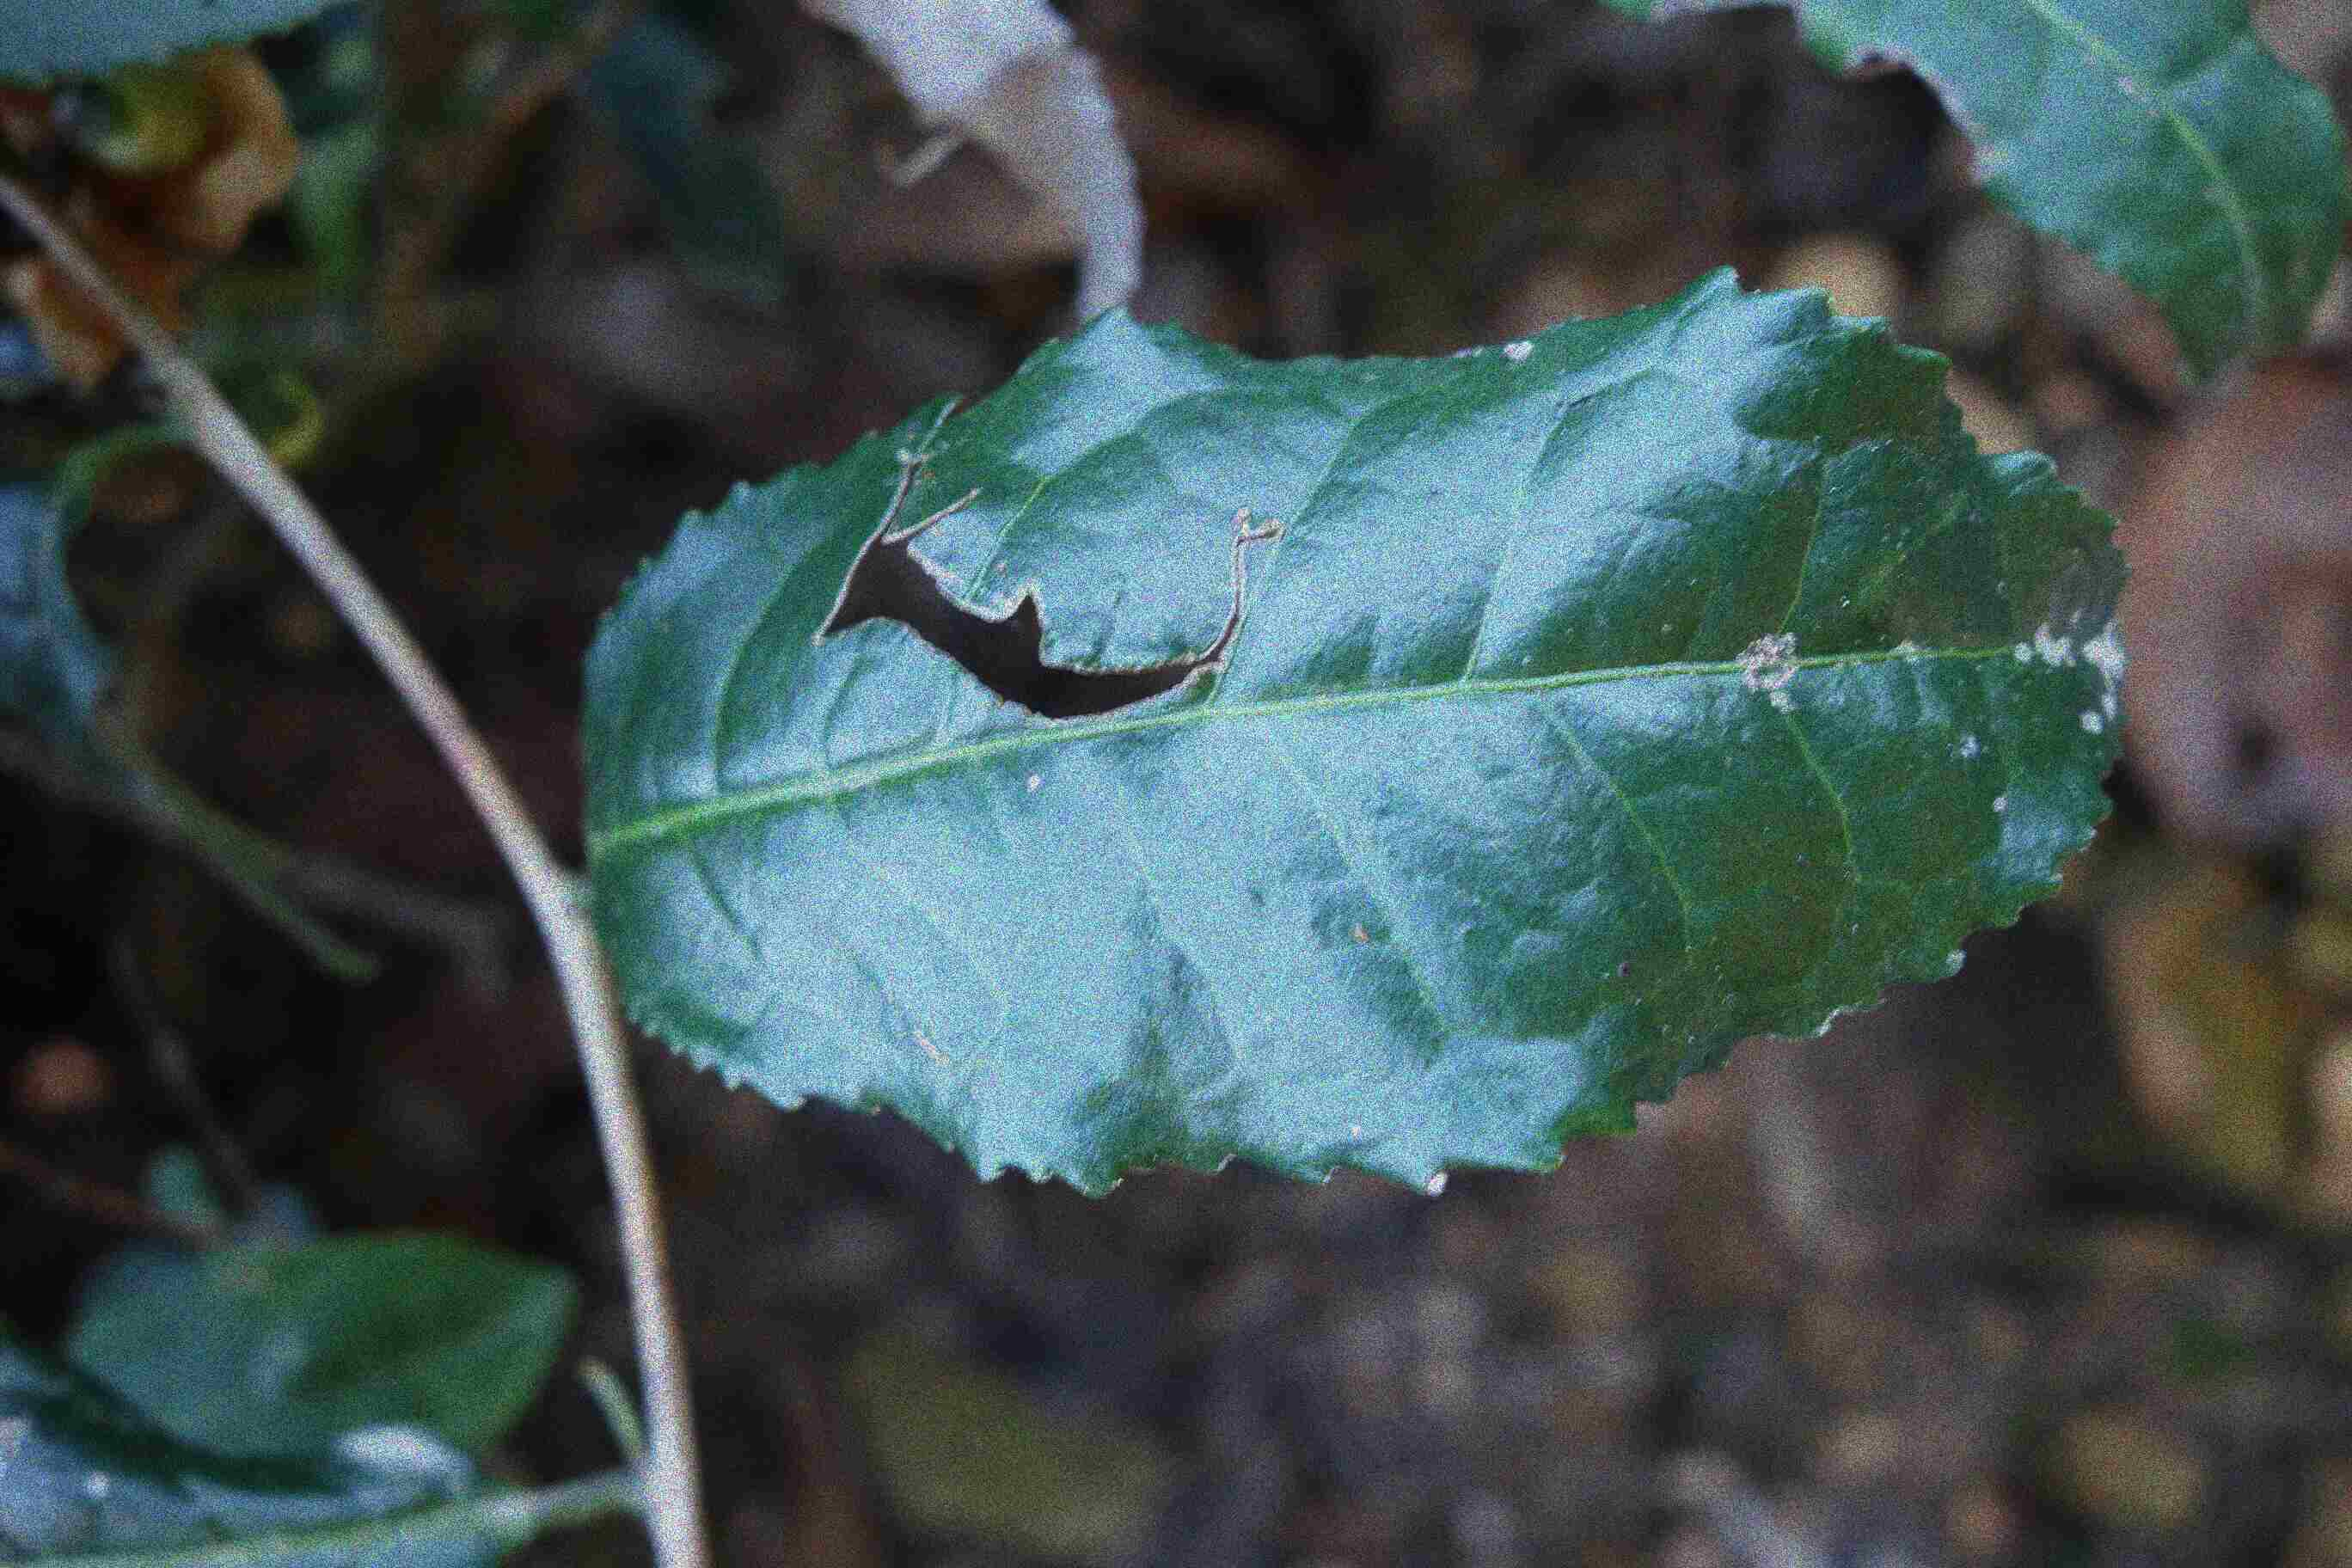chihuo_low: (577, 264, 2142, 1199)
